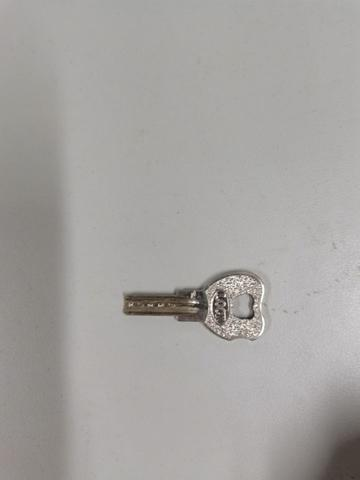key: (122, 270, 271, 342)
